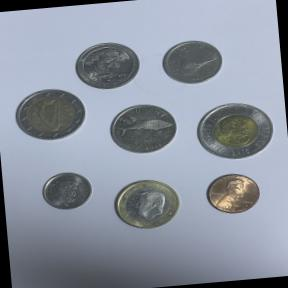1 Euro-B: (105, 171, 190, 238)
2 Euro-B: (11, 84, 90, 146)
Canada-10cent-B: (36, 166, 98, 217)
Canada-2Dollar-B: (190, 92, 286, 170)
Croatia-2Kune-B: (102, 96, 183, 163)
US-1cent-B: (200, 166, 270, 222)
US-25cent-B: (72, 38, 145, 94)
